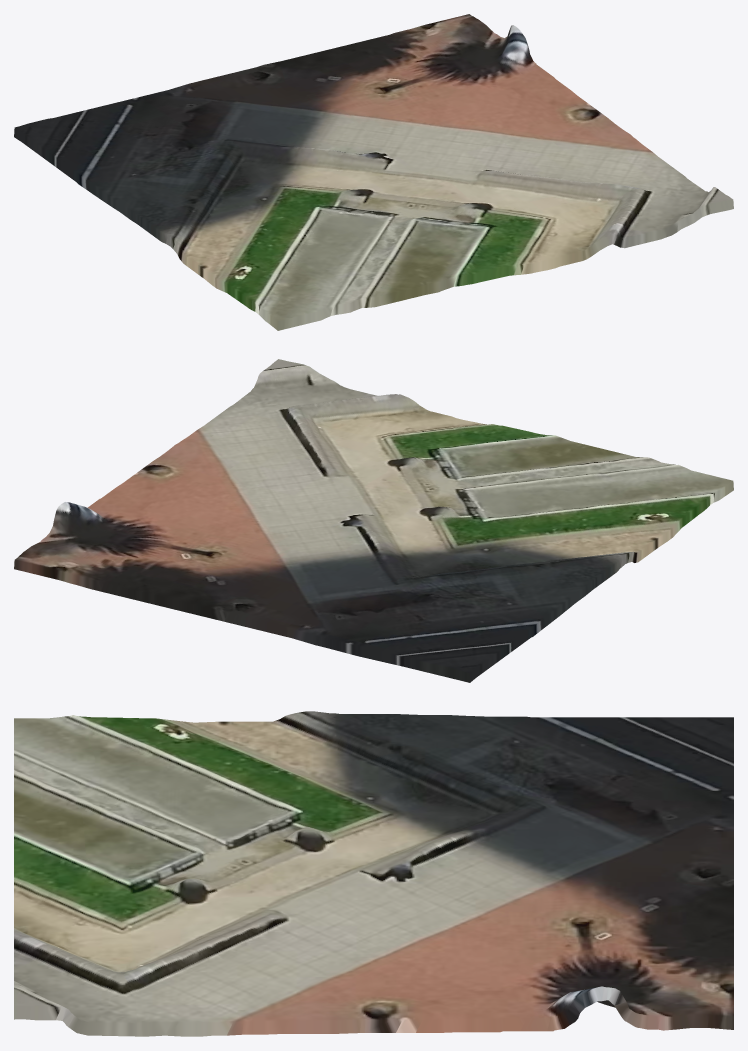
Rendered from z20-167788-405224-h0-yup-uvflip-v3-world.glb.
3 renders of one model, top to bottom at view 1: azimuth 30°, elevation 25°; view 2: azimuth 150°, elevation 25°; view 3: azimuth 270°, elevation 25°, orthographic. The views are drawn at different scales.
Bounding box in the file's own units: 30.24 × 2.48 × 30.32.
1 material, 1 textured.
